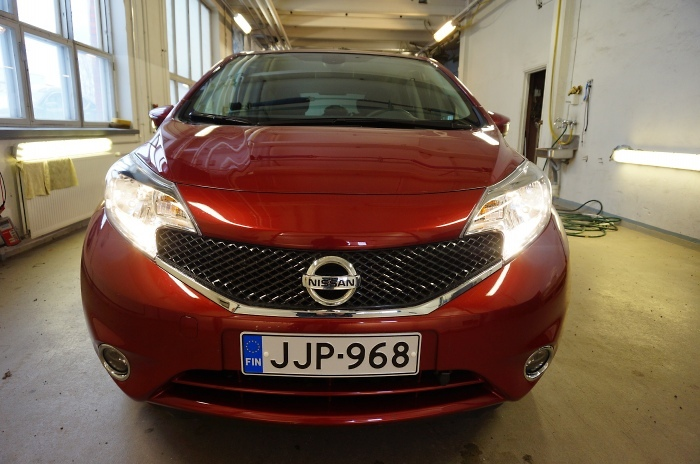license: (241, 334, 421, 378)
